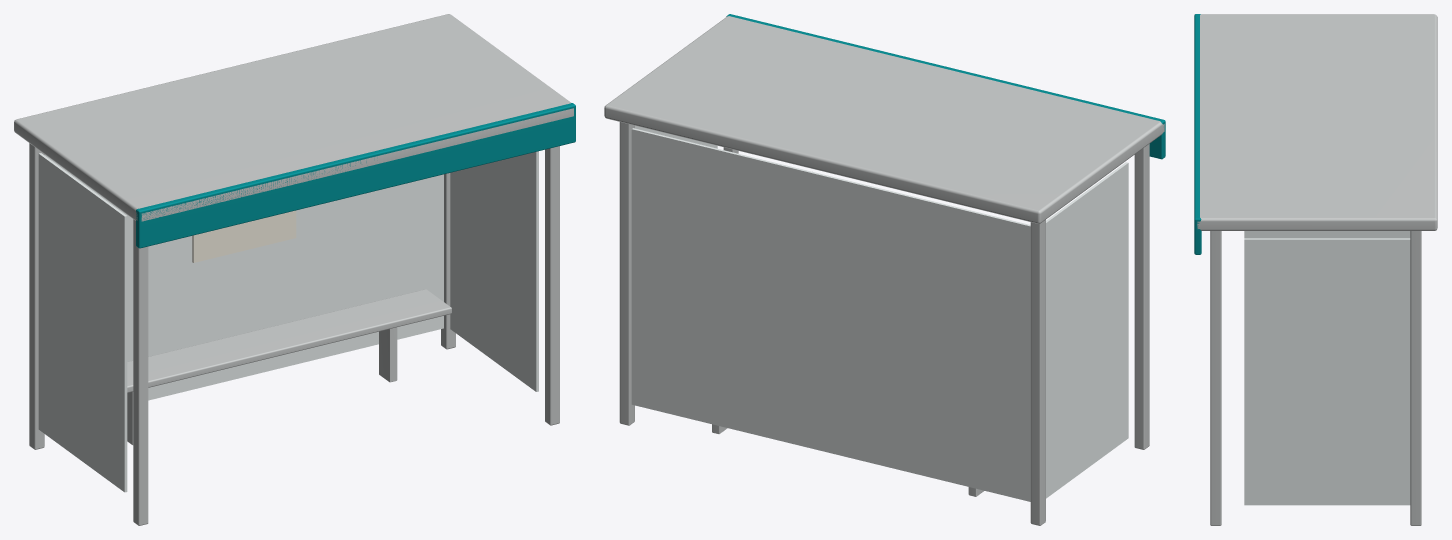
The model's file is ferry_shelter.glb.
3 renders of one model, left to right at view 1: azimuth 30°, elevation 25°; view 2: azimuth 150°, elevation 25°; view 3: azimuth 270°, elevation 25°, orthographic. The views are drawn at different scales.
Visible parts, largest first — view 1: SM_ferry_shelter; view 2: SM_ferry_shelter; view 3: SM_ferry_shelter.
Boxes of the visible parts, x1,y1,x2,y2 form: SM_ferry_shelter: [14, 14, 575, 525]; SM_ferry_shelter: [604, 14, 1165, 525]; SM_ferry_shelter: [1194, 14, 1437, 525].
Bounding box in the file's own units: 3.4 × 2.4 × 1.7.
